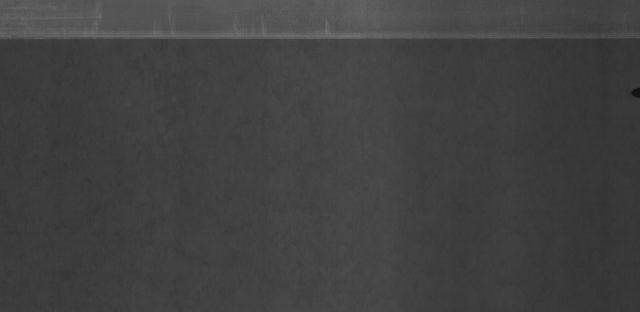punching_hole: (630, 84, 640, 99)
welding_line: (2, 28, 640, 50)
